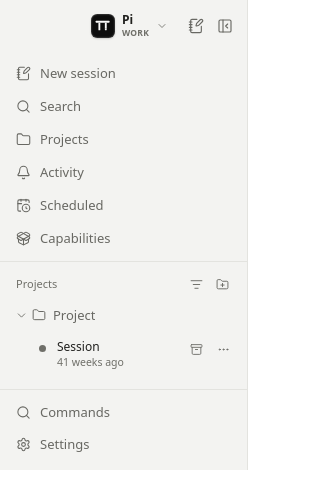
sidebar project context menu › dismisses the sort menu when adding a project
Click the button named "Sort projects".
click(196, 284)  # box [184,272,209,296]
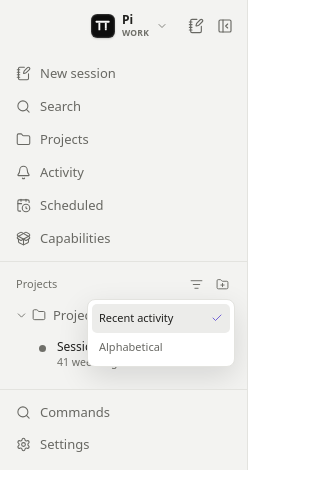
Expected: the menu item "Recent activity" is shown, [92,304,230,332]
Press the mouse on the button named "Add project" at (222, 284), box [210,272,235,296]
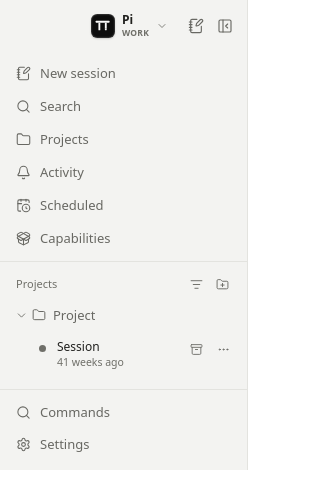
Expected: the menu item is gone
